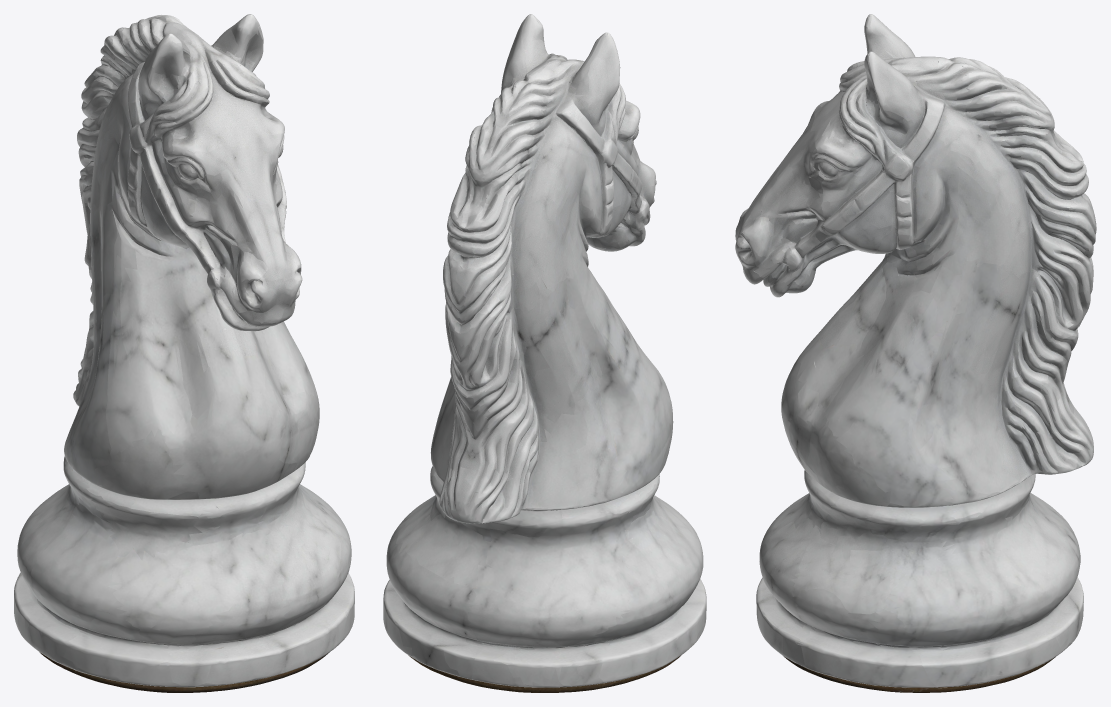
File: knight.glb
The picture shows the model from 3 angles, left to right: view 1: azimuth 30°, elevation 25°; view 2: azimuth 150°, elevation 25°; view 3: azimuth 270°, elevation 25°; orthographic projection. The views are drawn at different scales.
Parts seen in each view (by area): view 1: Mesh_0; view 2: Mesh_0; view 3: Mesh_0.
Boxes of the visible parts, left/top/right/bottom form: Mesh_0: left=14, top=14, right=354, bottom=692; Mesh_0: left=383, top=14, right=706, bottom=692; Mesh_0: left=735, top=14, right=1096, bottom=692.
Size of the model in its own units: 0.9436 by 1.9 by 1.04.
Materials: 1 (1 with a texture image).
